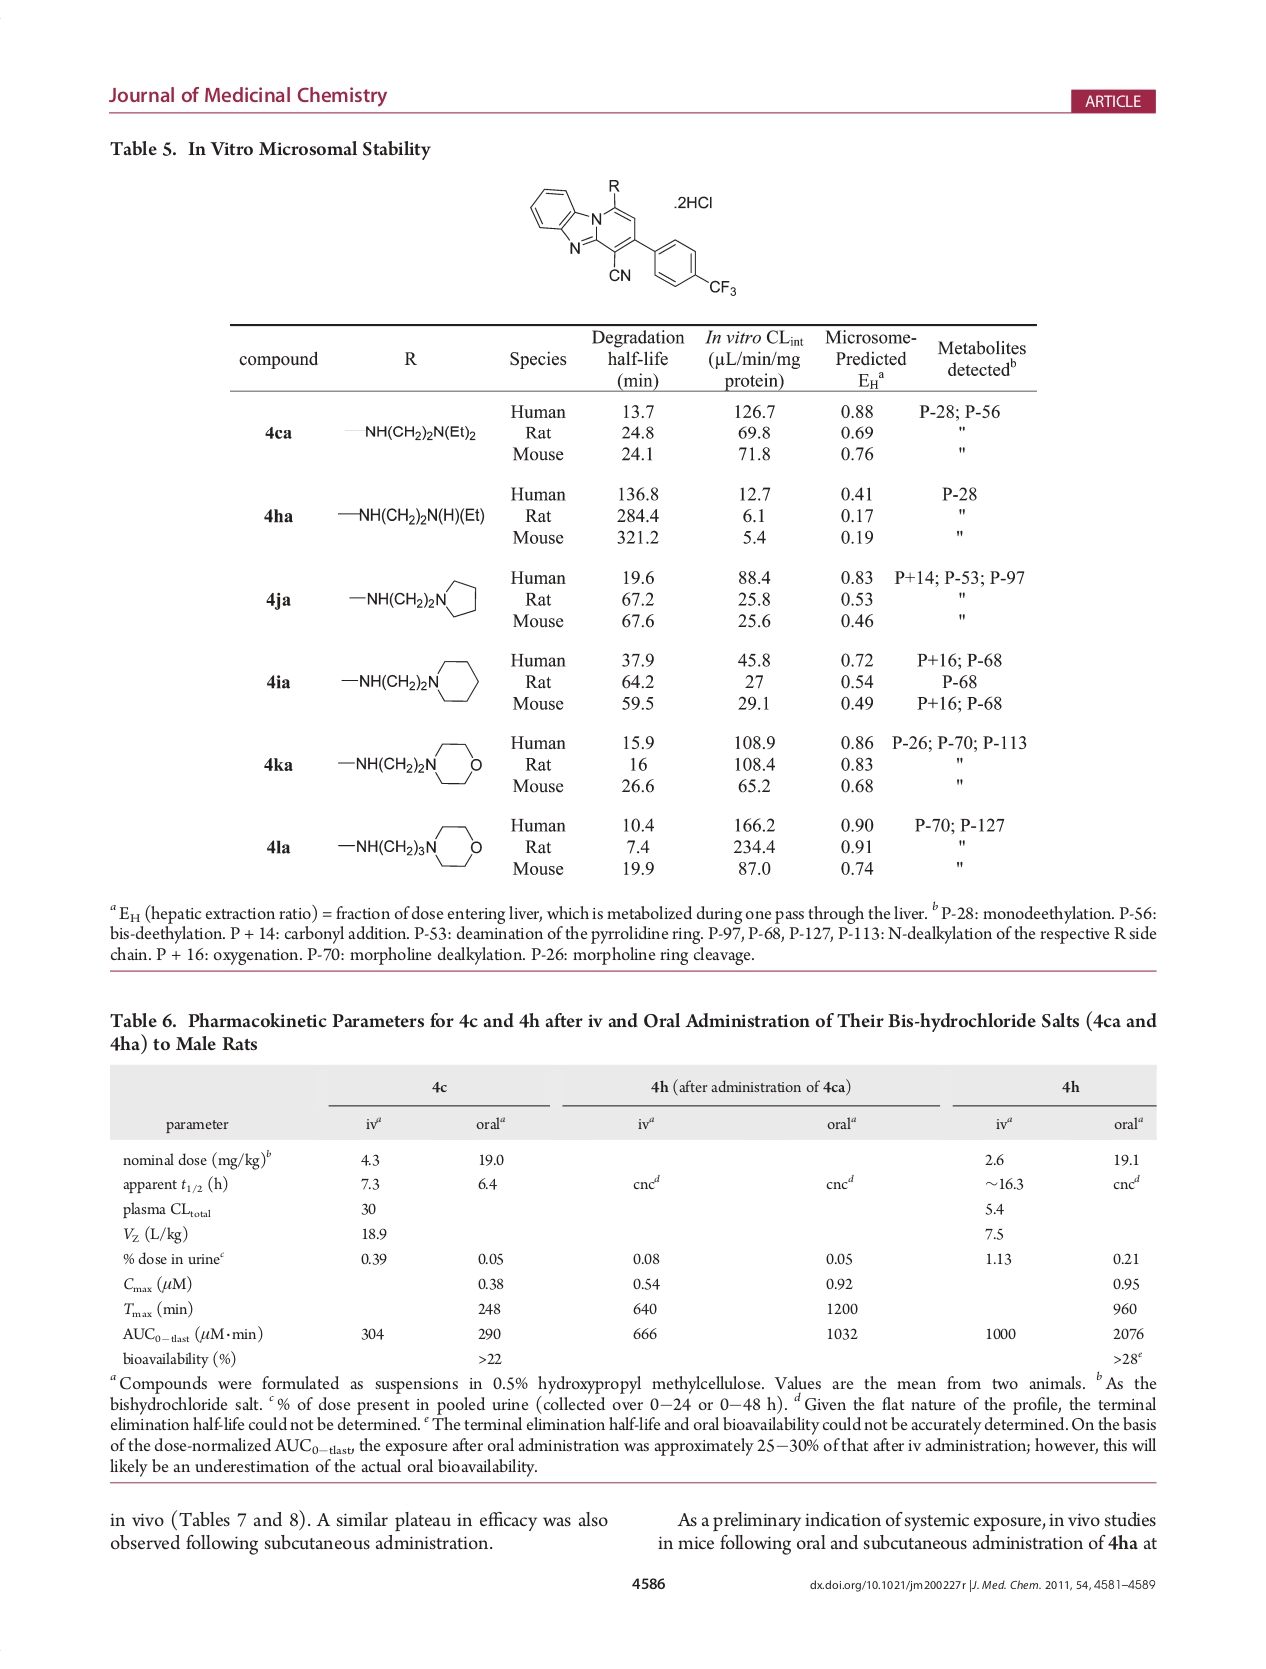exist_molecular: (527, 176, 739, 301), (334, 822, 483, 871), (342, 656, 481, 707), (334, 741, 483, 789), (342, 576, 481, 620)
